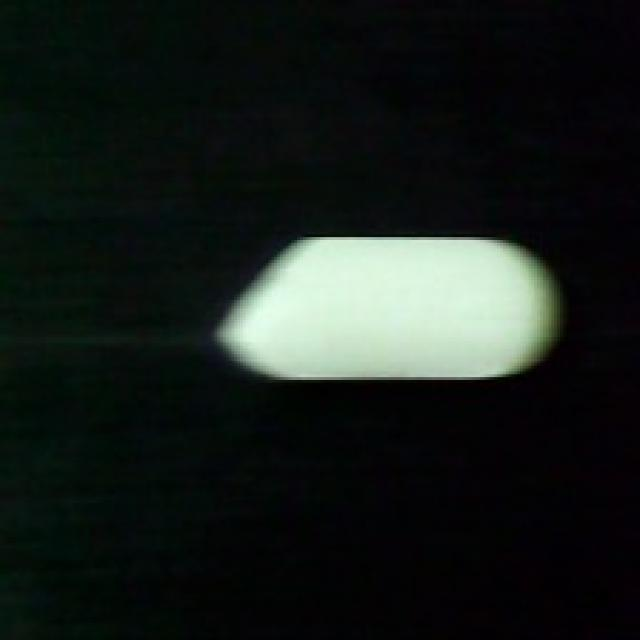defected: (214, 229, 566, 383)
